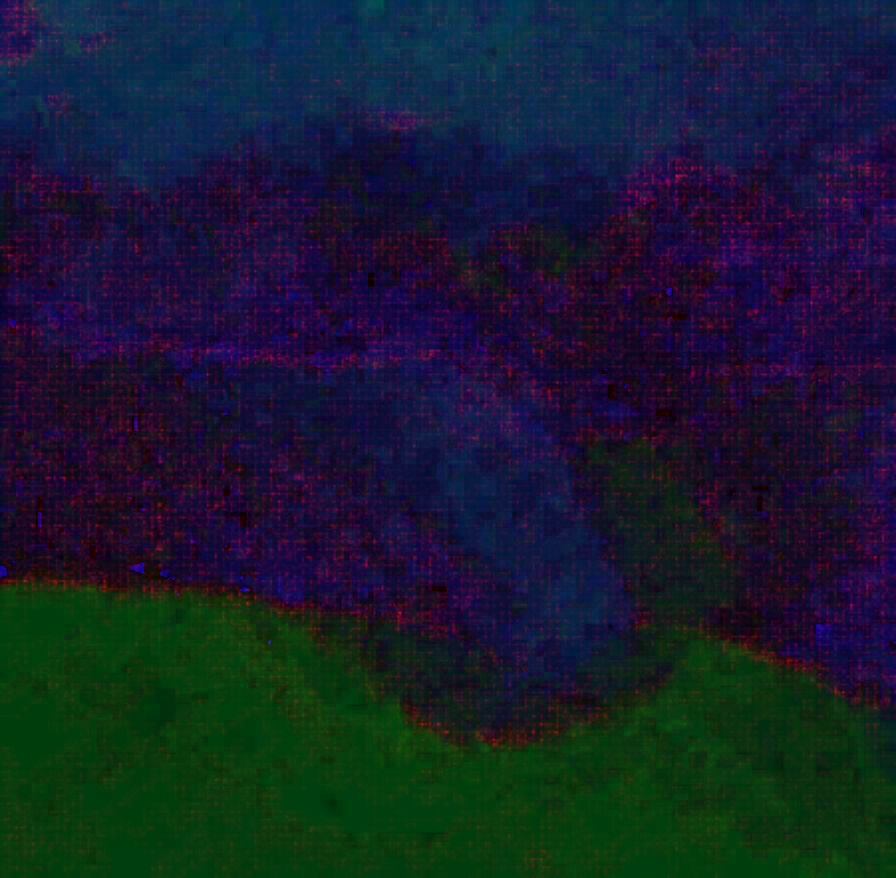rip_current: (277, 237, 641, 666)
